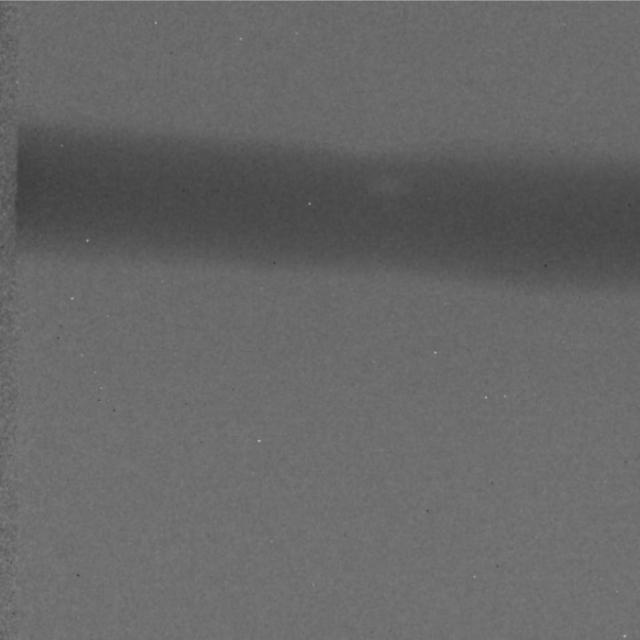slag inclusion: (366, 172, 410, 204)
